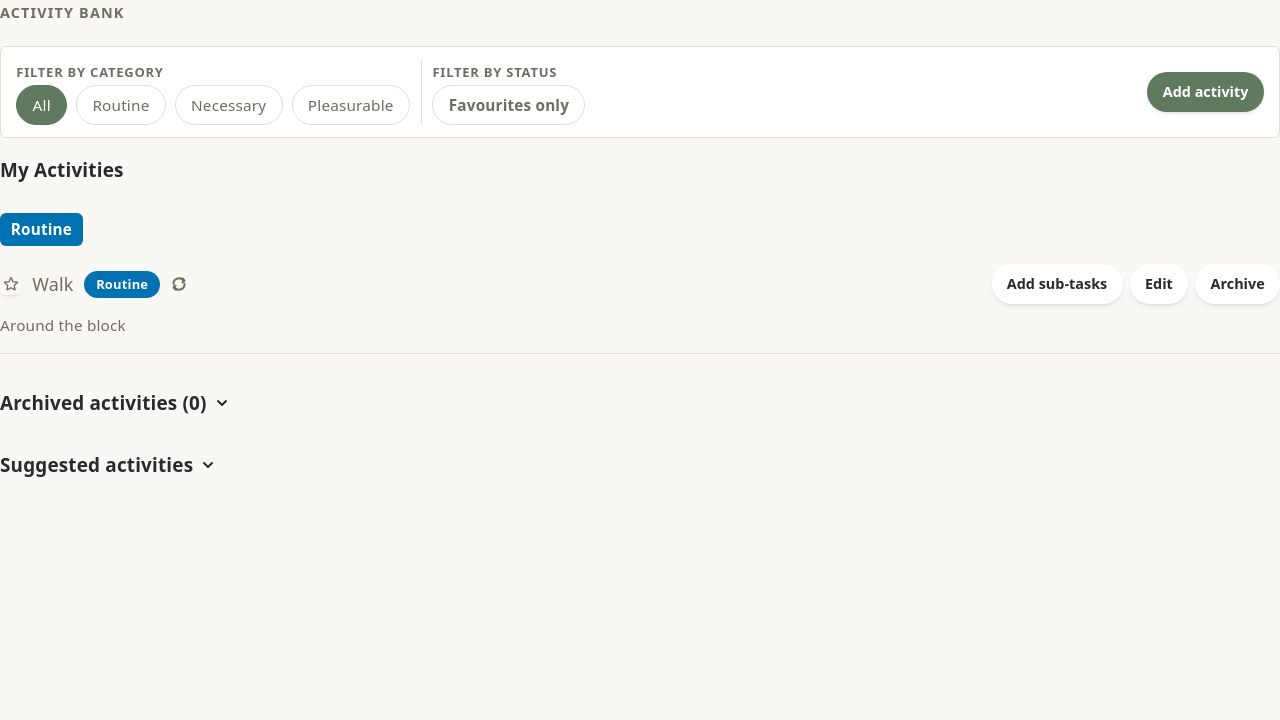
ActivityBank › FRONTEND-002-AC-18: edit form prefills from existing activity data › shows the activity's current values in the form fields
Click the button "Edit" at (1159, 284), box [1130, 264, 1188, 304]
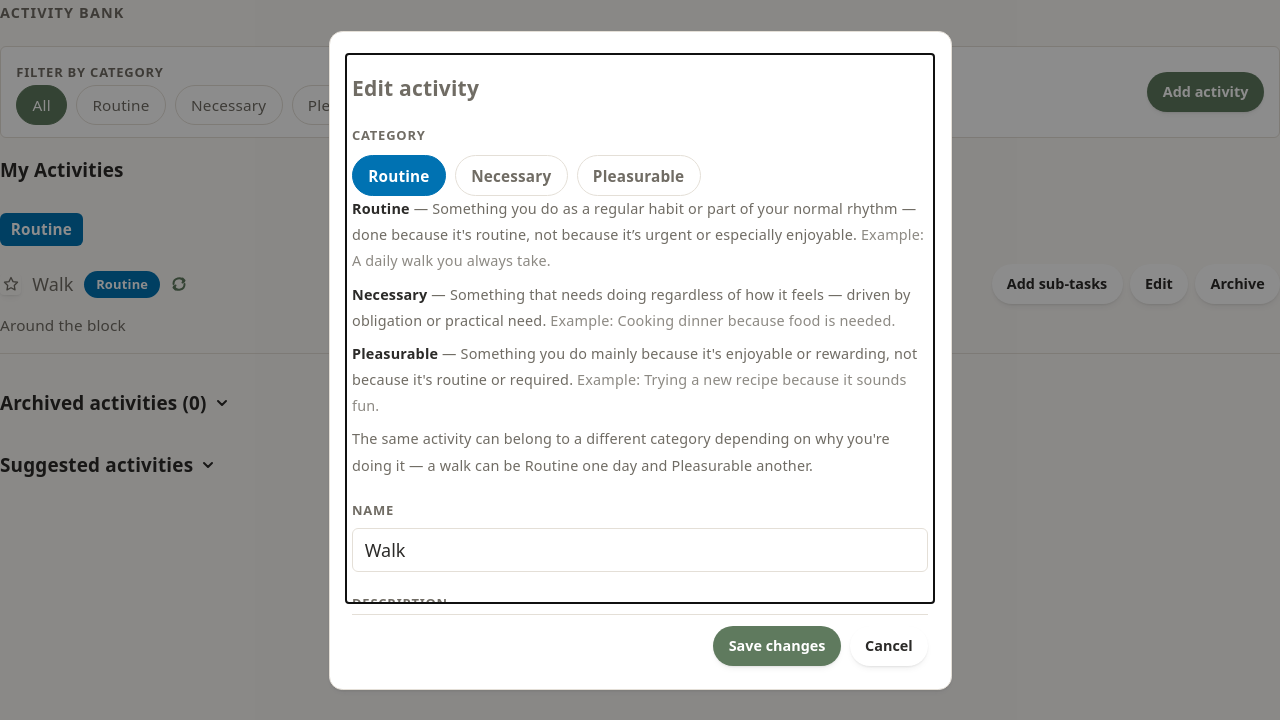
Check: the field labelled "Name" holds "Walk", box [352, 528, 928, 572]
